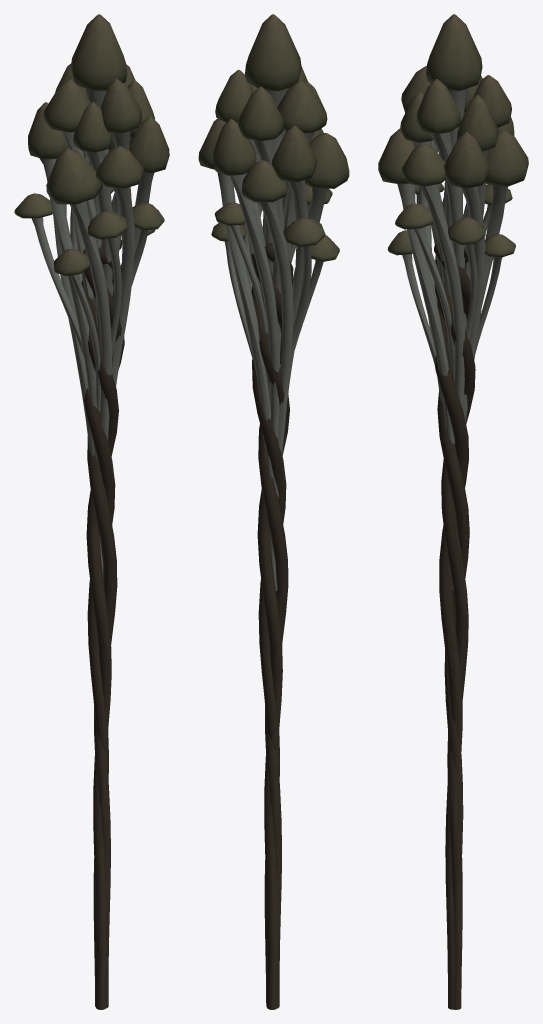
File: Mushroom_Weapon.fbx
3 views of the same model, side by side, from view 1: azimuth 30°, elevation 25°; view 2: azimuth 150°, elevation 25°; view 3: azimuth 330°, elevation 25° (orthographic).
Parts seen in each view (by area): view 1: Mushroom_Weapon_40; view 2: Mushroom_Weapon_40; view 3: Mushroom_Weapon_40.
Part boxes in pixels (x1,y1,x2,y2): Mushroom_Weapon_40: (14,14,169,1009); Mushroom_Weapon_40: (198,14,349,1009); Mushroom_Weapon_40: (378,14,528,1009).
Bounding box in the file's own units: 25.62 × 187 × 24.25.
